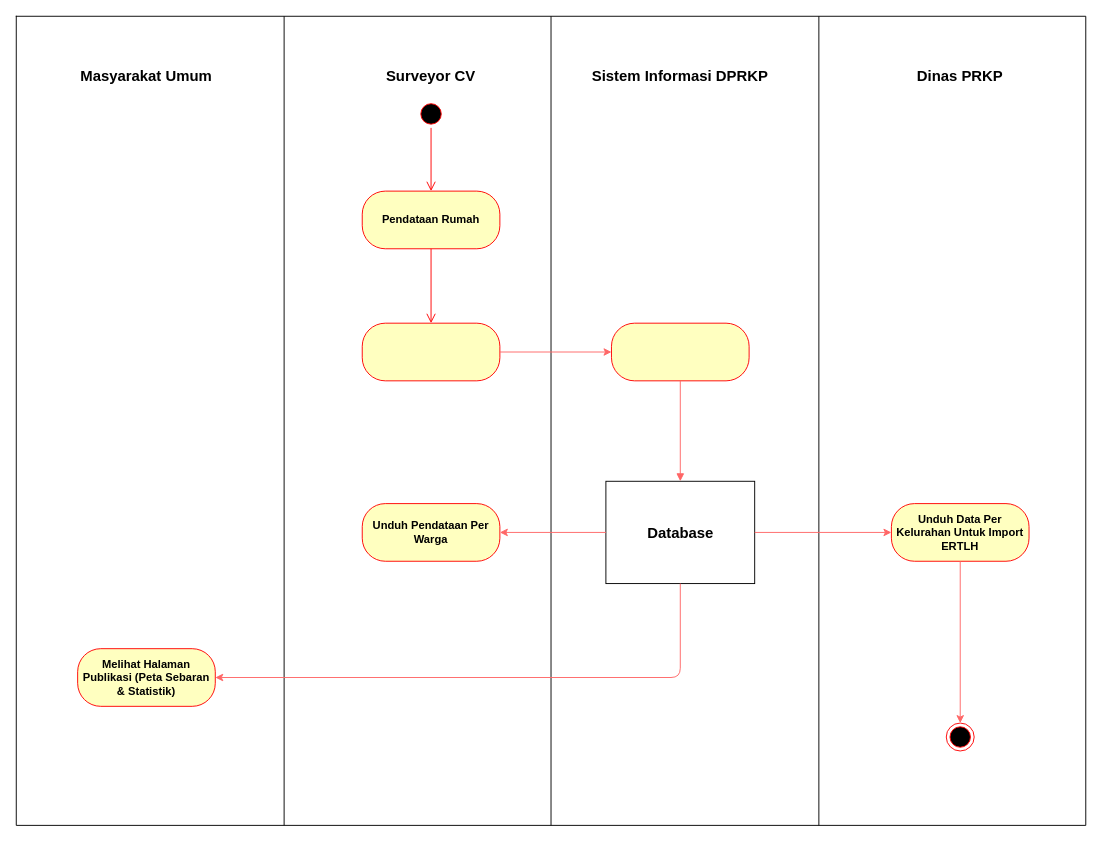
Image size: 1102x842. Some labels were removed from this diagram. The centre of each missing label's shape, as x and y in pixels:
Input Pendataan: the point at 430,351
Menyimpan Pendataan: the point at 680,351
